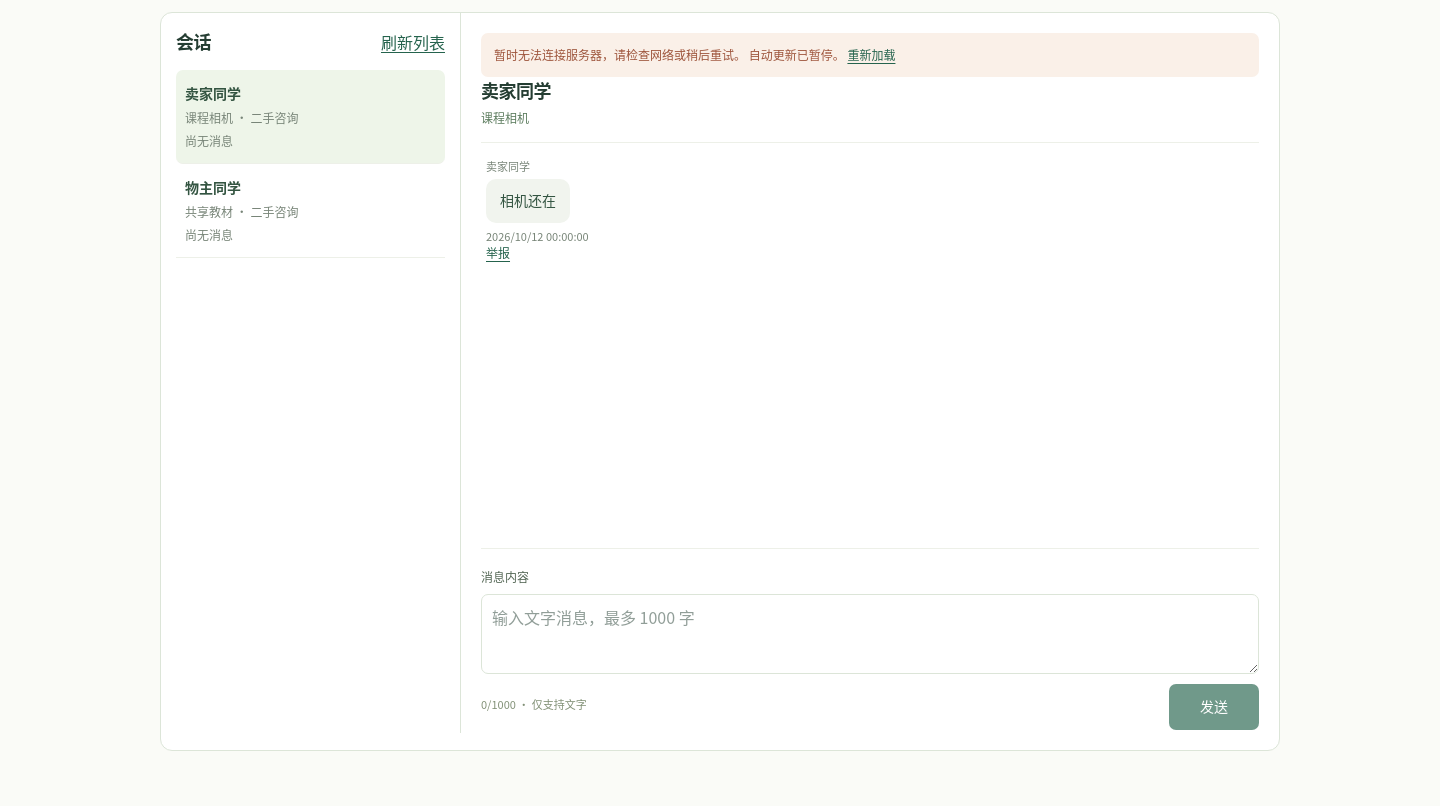
Test case: 网络异常暂停轮询，保留重载入口，隐藏页面及退出聊天停止轮询
(page scrolled)
Expected: the text "相机还在" is shown, [486, 179, 570, 223]
Expected: the message shows "自动更新已暂停", [746, 46, 845, 63]
Type "手动发送" into the text box labelled "消息内容" at (870, 634), box [481, 594, 1259, 674]
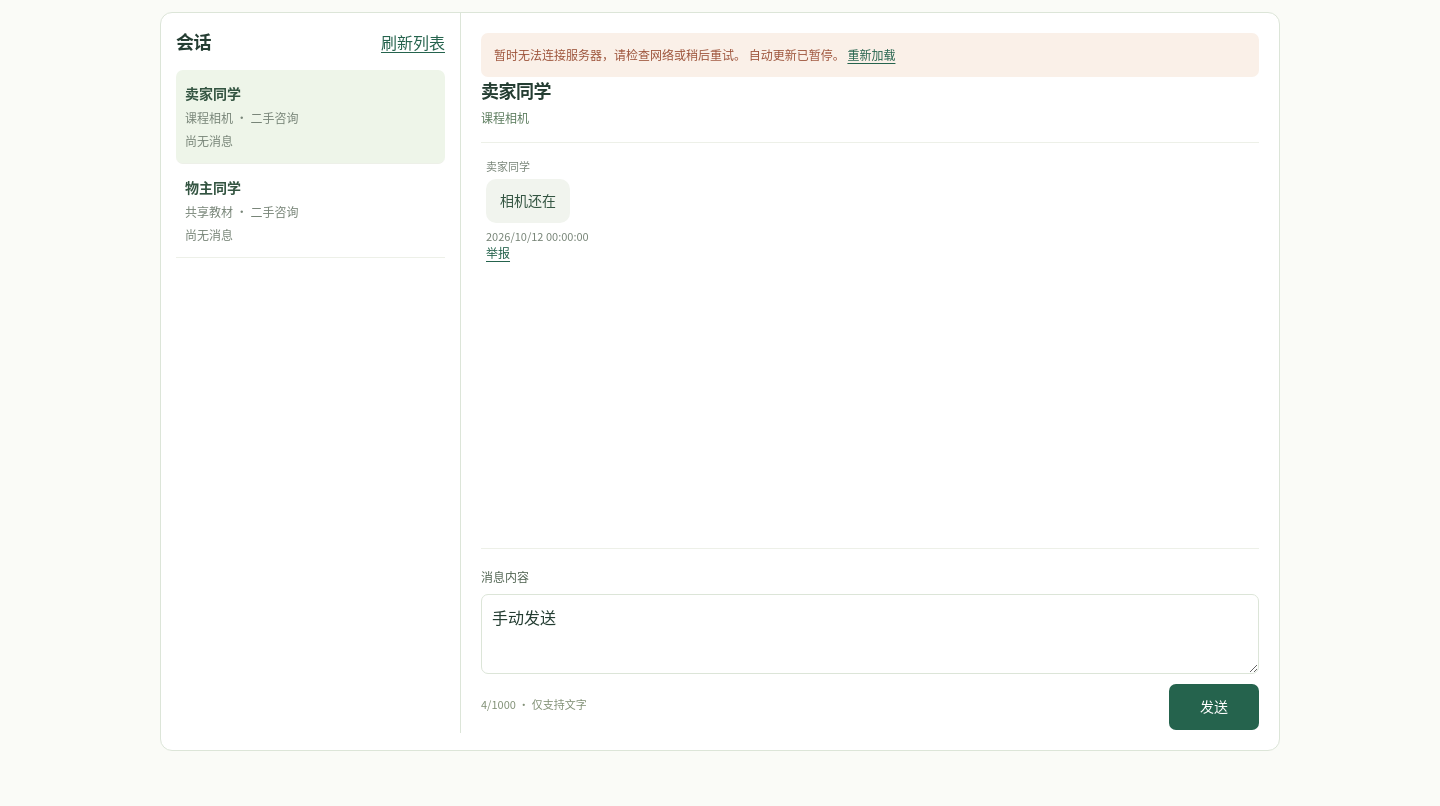
Click the button "发送" at (1214, 707), box [1169, 684, 1259, 730]
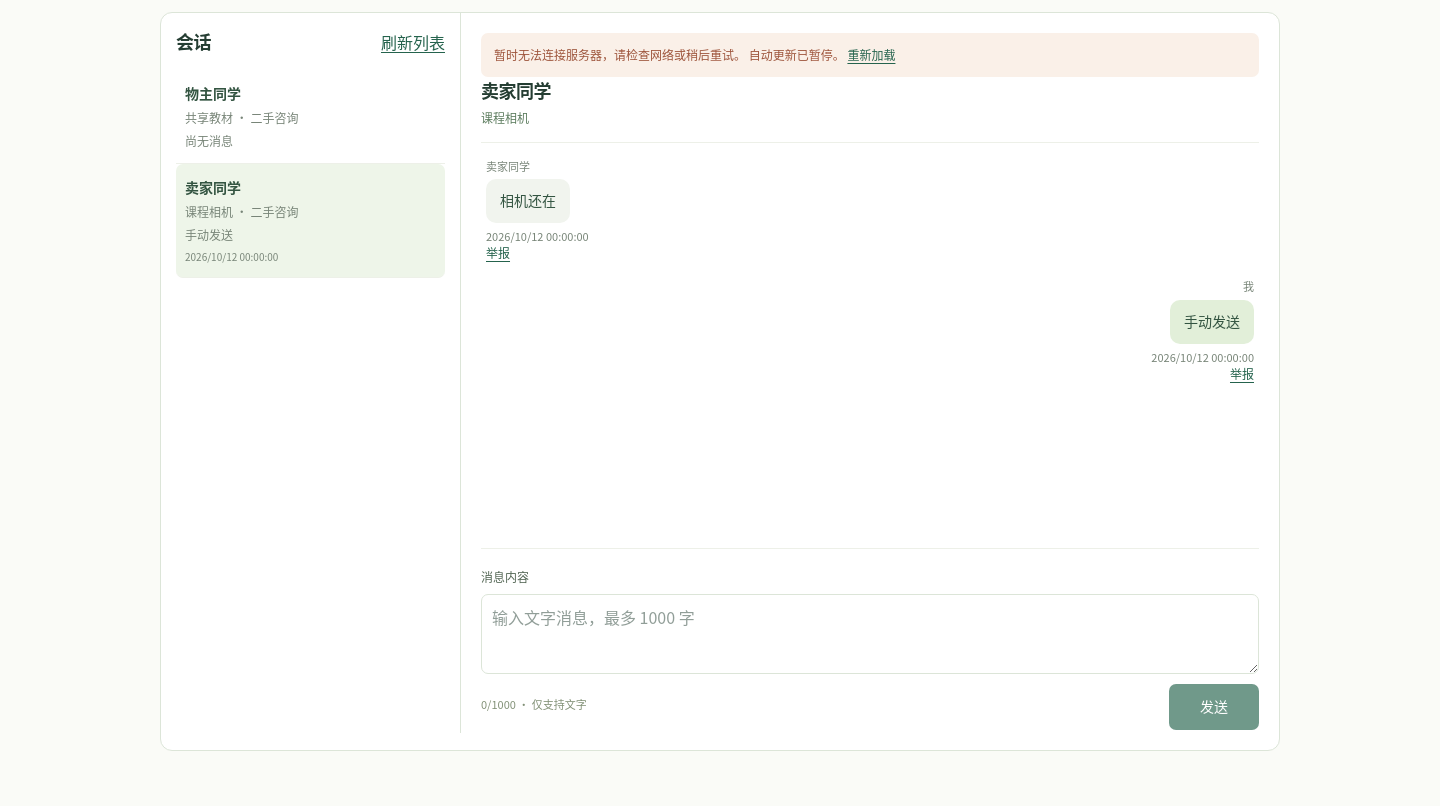
Click the button "重新加载" at (871, 55), box [847, 44, 895, 66]
Wait 24000 ms
(page scrolled)
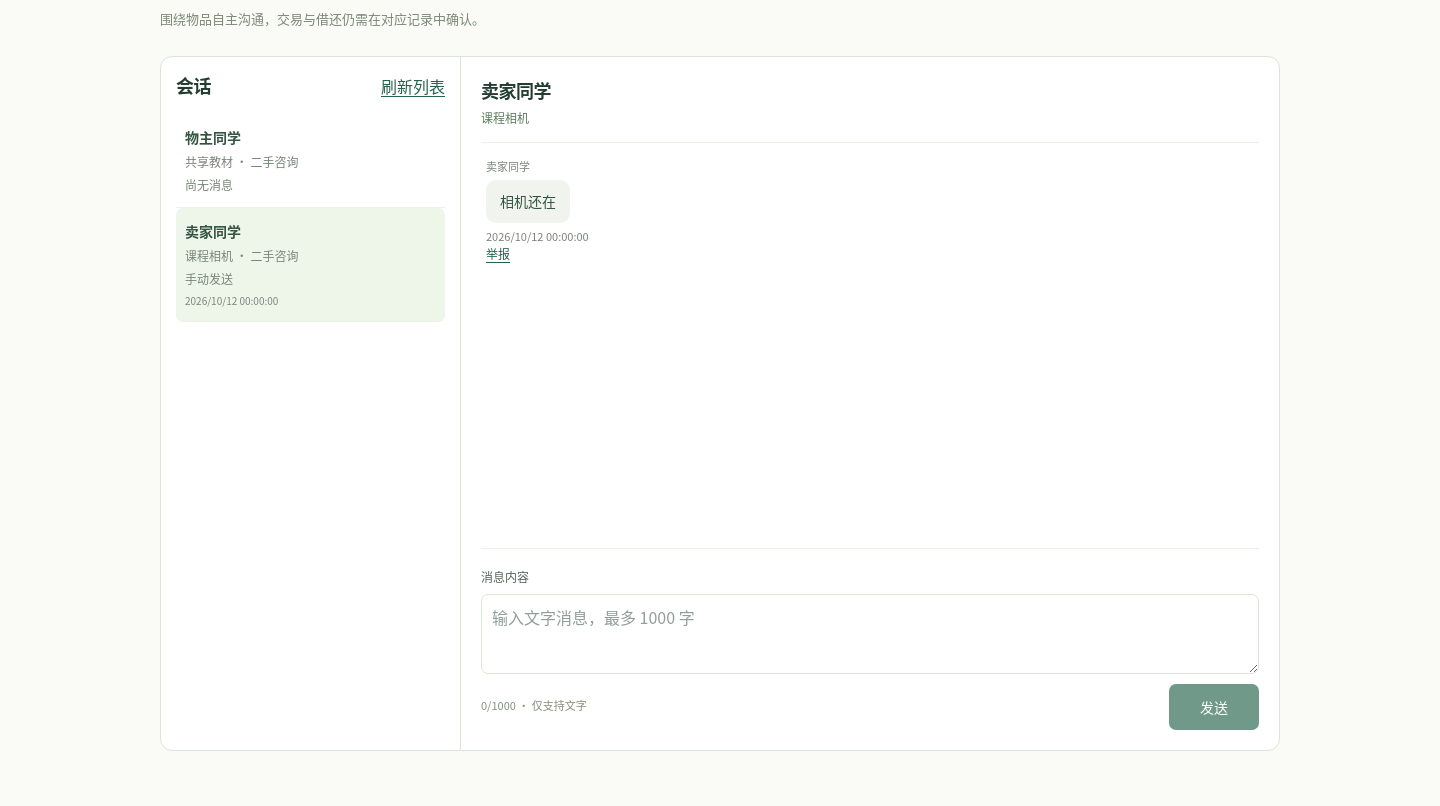
Expected: the message "暂时无法连接服务器，请检查网络或稍后重试。自动更新已暂停。 重新加载" is gone
